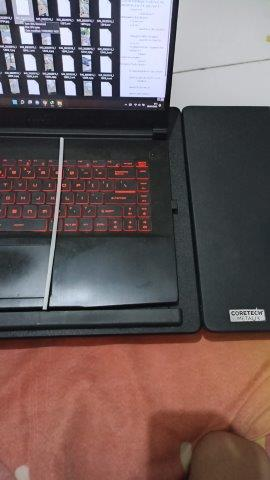sedotan: (43, 138, 63, 309)
